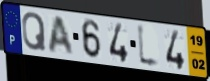4: (108, 21, 130, 64), (165, 28, 186, 71)
6: (80, 18, 102, 60)
A: (48, 15, 76, 56)
L: (136, 22, 162, 72)
Q: (21, 11, 48, 53)
